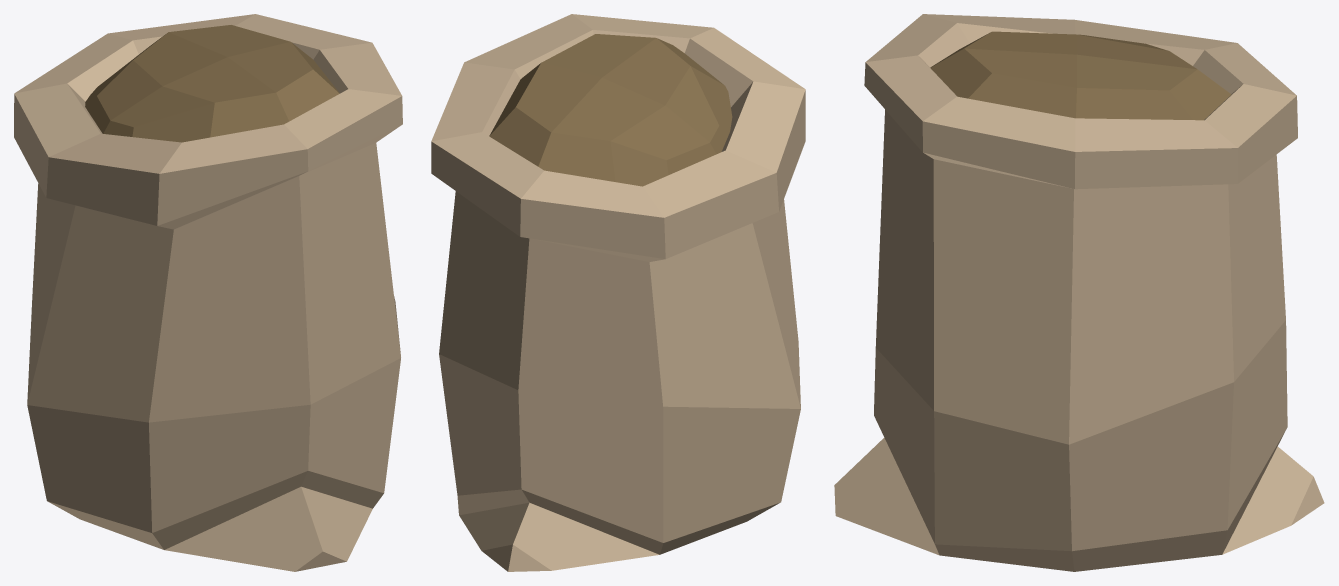
File: SM_Prop_Sack_06.fbx
The picture shows the model from 3 angles, left to right: view 1: azimuth 30°, elevation 25°; view 2: azimuth 150°, elevation 25°; view 3: azimuth 270°, elevation 25°; orthographic projection. The views are drawn at different scales.
Visible parts, largest first — view 1: SM_Prop_Sack_06; view 2: SM_Prop_Sack_06; view 3: SM_Prop_Sack_06.
Boxes of the visible parts, bbox=[...] form: SM_Prop_Sack_06: bbox=[14, 14, 402, 571]; SM_Prop_Sack_06: bbox=[431, 14, 805, 571]; SM_Prop_Sack_06: bbox=[834, 14, 1324, 571].
Size of the model in its own units: 45.08 by 50.44 by 48.31.
